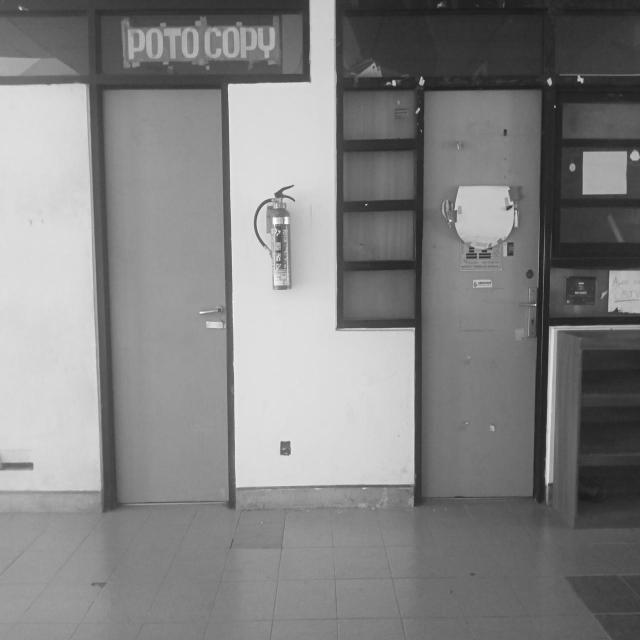door: (95, 81, 236, 513), (418, 81, 546, 504)
